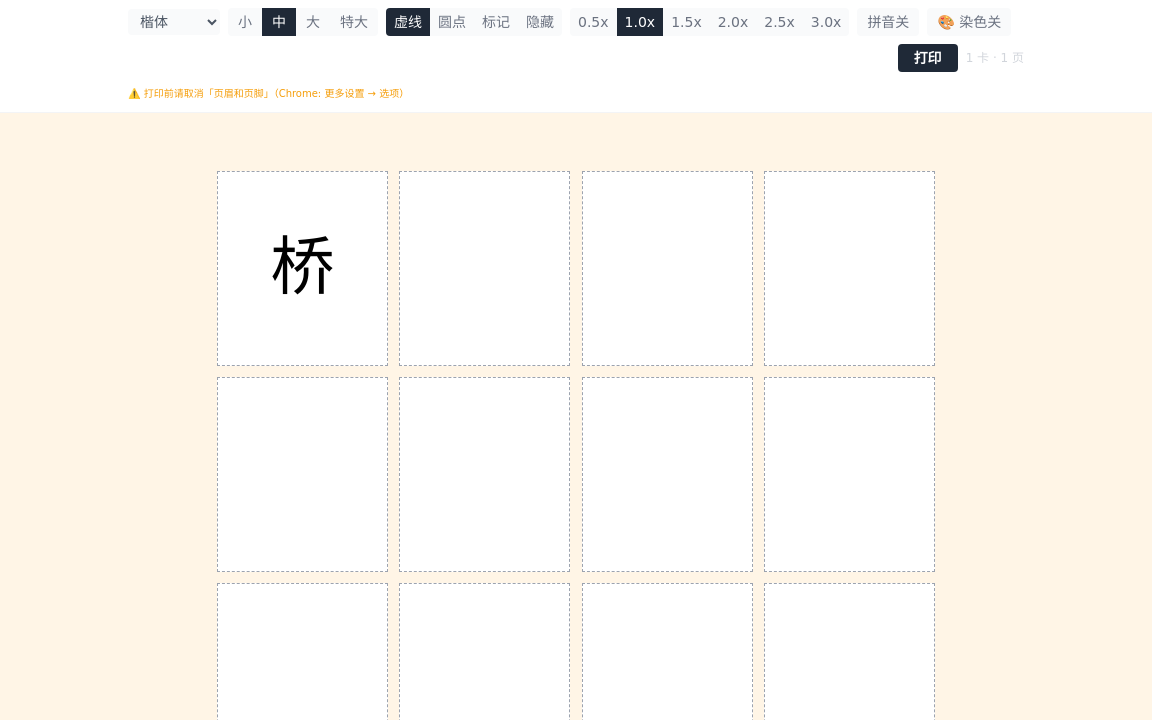
Test: PrintCards › 切换拼音开关后显示拼音
Expected: the button "打印" is shown, [898,44,958,72]
Expected: the text "qiáo" is not shown
What coordinates should you click on to do the following:
click the button "拼音关"
I would click on:
 (888, 22)
Its box is [857,8,919,36].
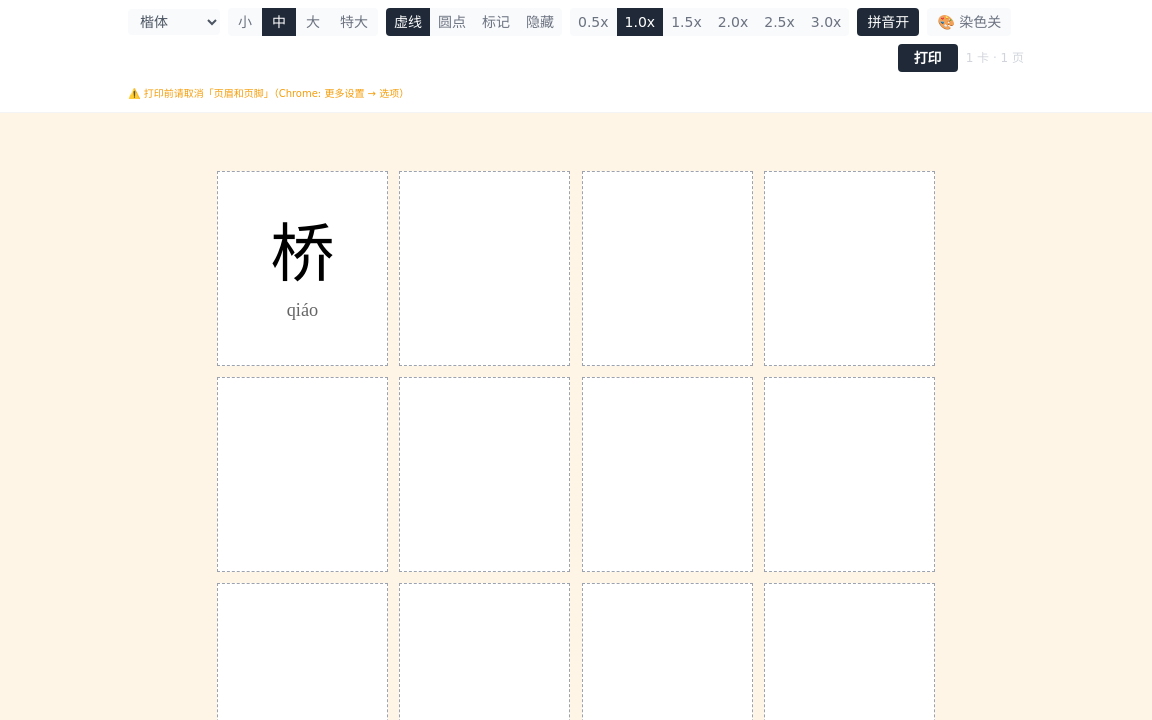
Result: the text "qiáo" is shown at [287,301,318,319]
